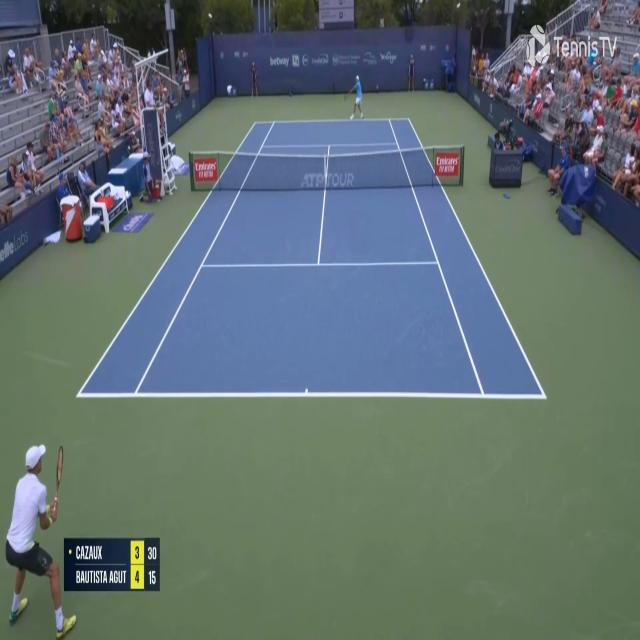tennis-player: (2, 438, 72, 639), (348, 73, 365, 123)
